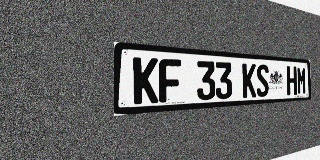3: (197, 61, 215, 101), (215, 62, 232, 99)
F: (159, 58, 181, 103)
H: (287, 66, 297, 95)
K: (133, 57, 158, 104), (242, 63, 256, 98)
M: (297, 67, 306, 95)
S: (256, 64, 269, 97)
